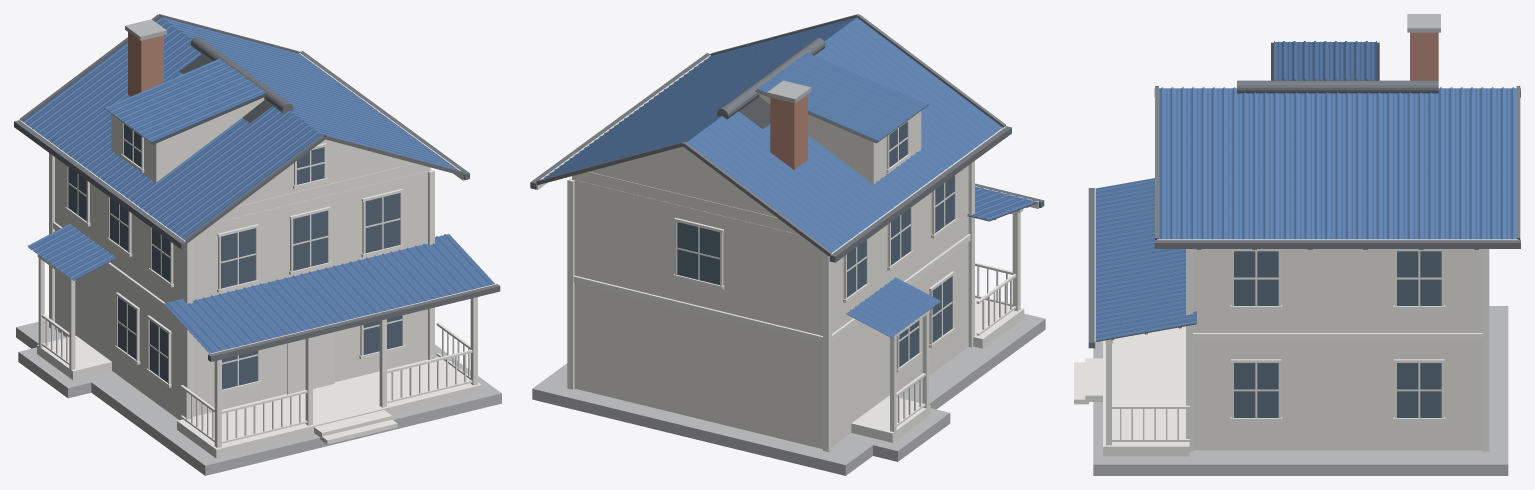
Rendered from Mega_Six_Ribs_Compact_Porch_House.glb.
3 views of the same model, side by side, from view 1: azimuth 30°, elevation 25°; view 2: azimuth 150°, elevation 25°; view 3: azimuth 270°, elevation 25° (orthographic). The views are drawn at different scales.
Parts seen in each view (by area): view 1: Main_Walls, Porch_Deck_Front, Foundation_Main, RoofSheet_13, RoofSheet_14, RoofSheet_08, RoofSheet_09, RoofSheet_16, RoofSheet_15, Gable_Wall_Front, Gutter_Porch, RoofSheet_17 (+57 smaller); view 2: Main_Walls, Foundation_Main, RoofSheet_14, RoofSheet_08, RoofSheet_09, Gable_Wall_Back, RoofSheet_16, RoofSheet_13, RoofSheet_15, SecondFloor_BandTrim, RoofSheet_10, Gable_Band_Back (+39 smaller); view 3: Main_Walls, Foundation_Main, Porch_Deck_Front, RoofSheet_02, RoofSheet_05, RoofSheet_06, RoofSheet_03, RoofSheet_04, RoofSheet_07, RoofSheet_01, Gutter_Right, Ridge_Cap (+25 smaller).
Part boxes in pixels (bbox=[...]): Main_Walls: bbox=[55, 157, 430, 419]; Porch_Deck_Front: bbox=[177, 357, 481, 458]; Foundation_Main: bbox=[16, 320, 501, 475]; RoofSheet_13: bbox=[139, 106, 300, 223]; RoofSheet_14: bbox=[163, 120, 321, 239]; RoofSheet_08: bbox=[23, 17, 182, 137]; RoofSheet_09: bbox=[45, 34, 201, 154]; RoofSheet_16: bbox=[129, 75, 266, 142]; RoofSheet_15: bbox=[105, 58, 243, 125]; Gable_Wall_Front: bbox=[236, 139, 413, 206]; Gutter_Porch: bbox=[208, 284, 500, 361]; RoofSheet_17: bbox=[163, 297, 249, 353]; Main_Walls: bbox=[572, 165, 968, 448]; Foundation_Main: bbox=[532, 313, 1045, 475]; RoofSheet_14: bbox=[834, 17, 1002, 144]; RoofSheet_08: bbox=[686, 126, 854, 252]; RoofSheet_09: bbox=[709, 111, 879, 235]; Gable_Wall_Back: bbox=[589, 146, 776, 217]; RoofSheet_16: bbox=[782, 52, 927, 122]; RoofSheet_13: bbox=[814, 35, 978, 162]; RoofSheet_15: bbox=[756, 70, 902, 141]; SecondFloor_BandTrim: bbox=[573, 234, 970, 343]; RoofSheet_10: bbox=[763, 124, 904, 217]; Gable_Band_Back: bbox=[572, 171, 799, 234]; Main_Walls: bbox=[1193, 249, 1482, 450]; Foundation_Main: bbox=[1093, 306, 1508, 475]; Porch_Deck_Front: bbox=[1103, 326, 1189, 456]; RoofSheet_02: bbox=[1208, 87, 1260, 239]; RoofSheet_05: bbox=[1363, 92, 1415, 239]; RoofSheet_06: bbox=[1415, 87, 1466, 239]; RoofSheet_03: bbox=[1260, 92, 1311, 239]; RoofSheet_04: bbox=[1312, 92, 1363, 239]; RoofSheet_07: bbox=[1467, 87, 1516, 239]; RoofSheet_01: bbox=[1159, 87, 1208, 239]; Gutter_Right: bbox=[1154, 240, 1520, 248]; Ridge_Cap: bbox=[1237, 80, 1438, 93].
Size of the model in its own units: 8.2 by 7.71 by 9.05.
